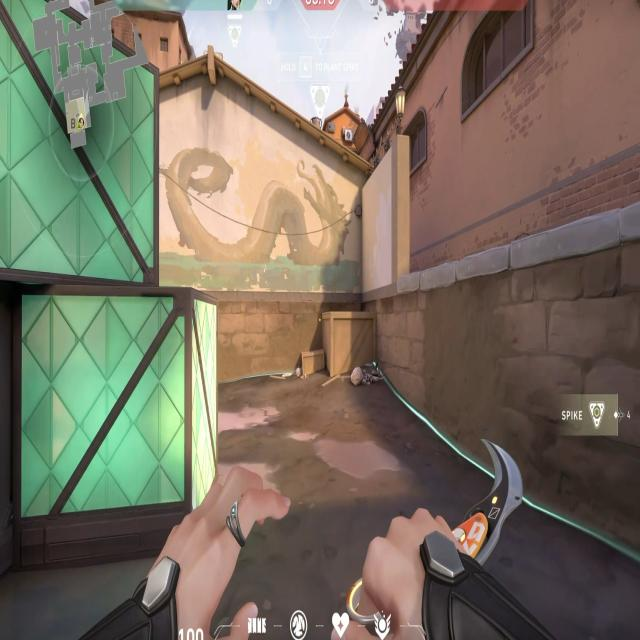B_Site_Box: (0, 13, 219, 568)
Throwables: (460, 0, 536, 122), (407, 108, 432, 175)
